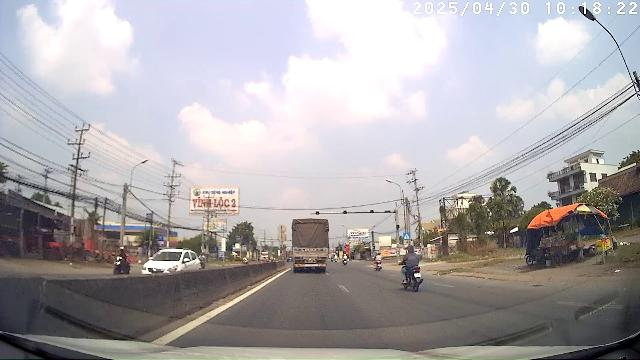423a-duong-nguoi-di-bo-sang-ngang-1: (403, 232, 410, 240)
